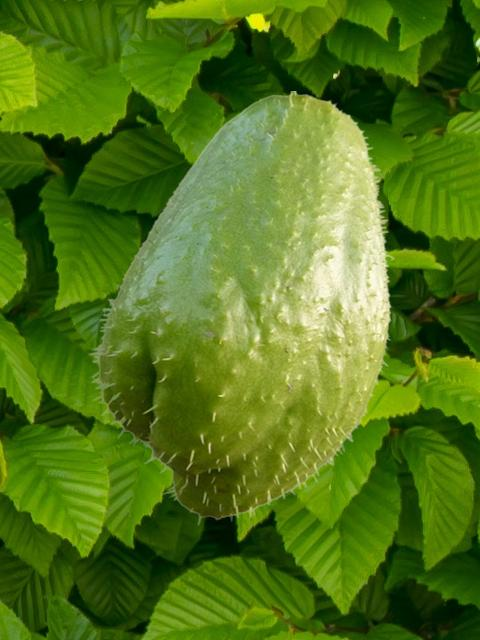sayote: (88, 91, 393, 524)
